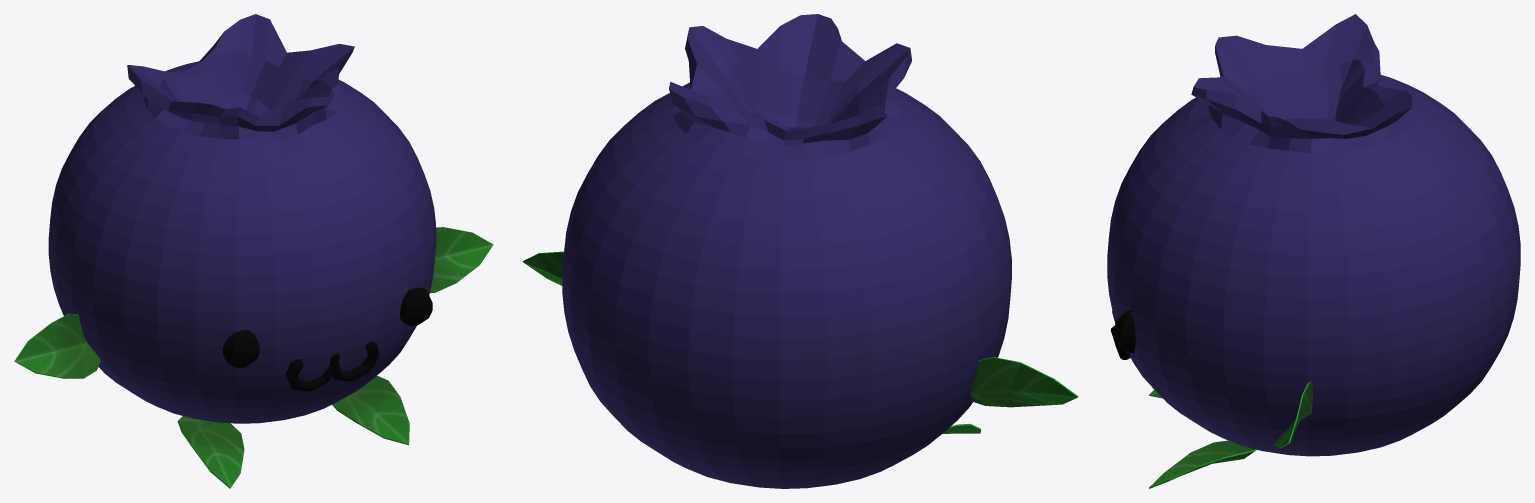
Rendered from BlueBerry_Model.fbx.
The picture shows the model from 3 angles, left to right: view 1: azimuth 30°, elevation 25°; view 2: azimuth 150°, elevation 25°; view 3: azimuth 270°, elevation 25°; orthographic projection. The views are drawn at different scales.
Visible parts, largest first — view 1: Sphere, Sphere.002, Sphere.003; view 2: Sphere, Sphere.002; view 3: Sphere, Sphere.002, Sphere.003.
Part boxes in pixels (bbox=[...]): Sphere: bbox=[48, 14, 436, 423]; Sphere.002: bbox=[14, 227, 493, 488]; Sphere.003: bbox=[223, 287, 432, 391]; Sphere: bbox=[562, 14, 1011, 488]; Sphere.002: bbox=[522, 251, 1078, 433]; Sphere: bbox=[1107, 14, 1520, 456]; Sphere.002: bbox=[1149, 382, 1312, 488]; Sphere.003: bbox=[1110, 310, 1135, 359].
Size of the model in its own units: 295 by 209 by 207.
Materials: 1 (1 with a texture image).
